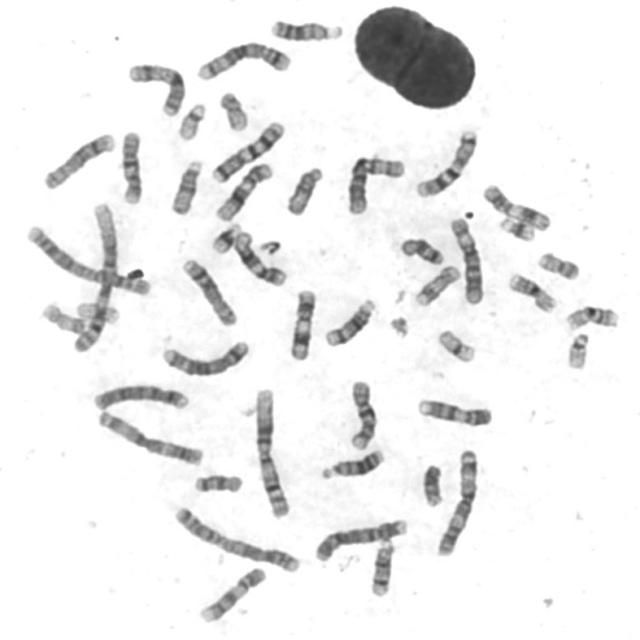A1: (68, 197, 120, 355), (249, 382, 292, 519)
A2: (20, 219, 153, 298), (168, 501, 302, 575)
A3: (91, 405, 206, 467), (431, 444, 480, 557)
B4: (309, 513, 410, 563), (88, 379, 191, 412)
B5: (192, 36, 293, 82), (157, 336, 252, 378)
C10: (343, 374, 379, 451), (114, 125, 144, 206)
C11: (477, 178, 554, 233), (284, 284, 317, 362)
C12: (210, 157, 274, 222), (228, 226, 288, 288)
C6: (341, 150, 407, 216), (445, 212, 486, 306)
C7: (206, 116, 286, 184), (410, 124, 480, 199)
C8: (38, 127, 117, 191), (177, 252, 239, 328)
C9: (194, 562, 268, 624), (412, 392, 494, 428)
D13: (316, 443, 386, 480), (266, 12, 345, 42)
D14: (319, 293, 378, 348), (364, 536, 397, 598)
D15: (164, 154, 204, 217), (281, 161, 325, 217)
E16: (502, 267, 558, 314), (560, 300, 620, 331)
E17: (409, 260, 462, 308), (36, 296, 88, 336)
E18: (395, 232, 446, 266), (188, 468, 244, 496)
F19: (432, 324, 478, 364), (70, 297, 122, 325)
F20: (532, 246, 582, 282), (214, 86, 250, 132)
G21: (494, 211, 538, 243), (206, 217, 243, 254)
G22: (172, 97, 208, 142), (561, 328, 591, 371)
X: (122, 57, 187, 118)
Y: (417, 459, 445, 507)
